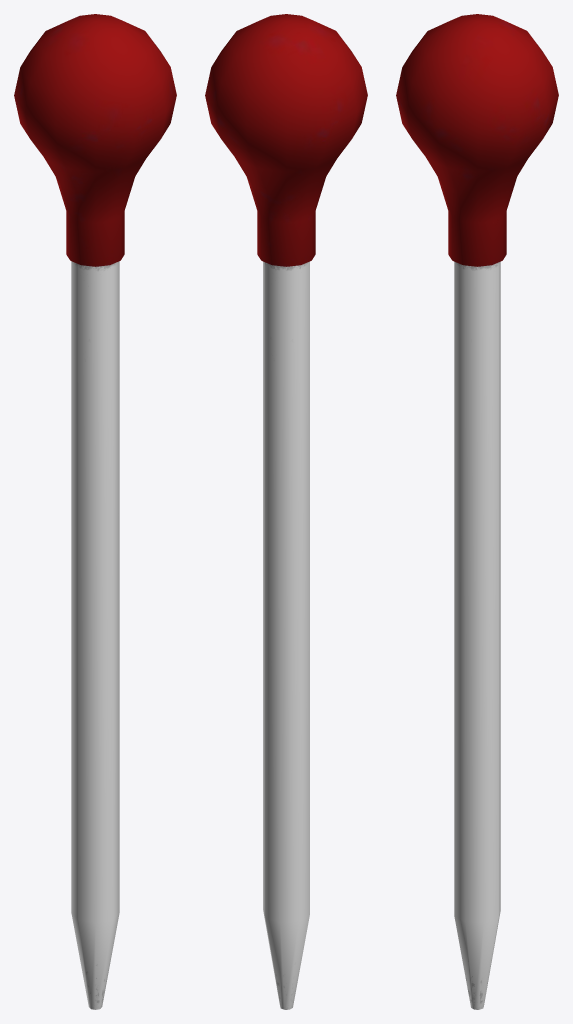
The model's file is Spoid.glb.
The picture shows the model from 3 angles, left to right: view 1: azimuth 30°, elevation 25°; view 2: azimuth 150°, elevation 25°; view 3: azimuth 270°, elevation 25°; orthographic projection.
Visible parts, largest first — view 1: Red_piette_NakedSingularity_glass_0; view 2: Red_piette_NakedSingularity_glass_0; view 3: Red_piette_NakedSingularity_glass_0.
Boxes of the visible parts, x1,y1,x2,y2 form: Red_piette_NakedSingularity_glass_0: [14, 14, 176, 1009]; Red_piette_NakedSingularity_glass_0: [205, 14, 367, 1009]; Red_piette_NakedSingularity_glass_0: [396, 14, 558, 1009].
Size of the model in its own units: 0.0273 by 0.1828 by 0.0273.
2 materials, 2 textured.
